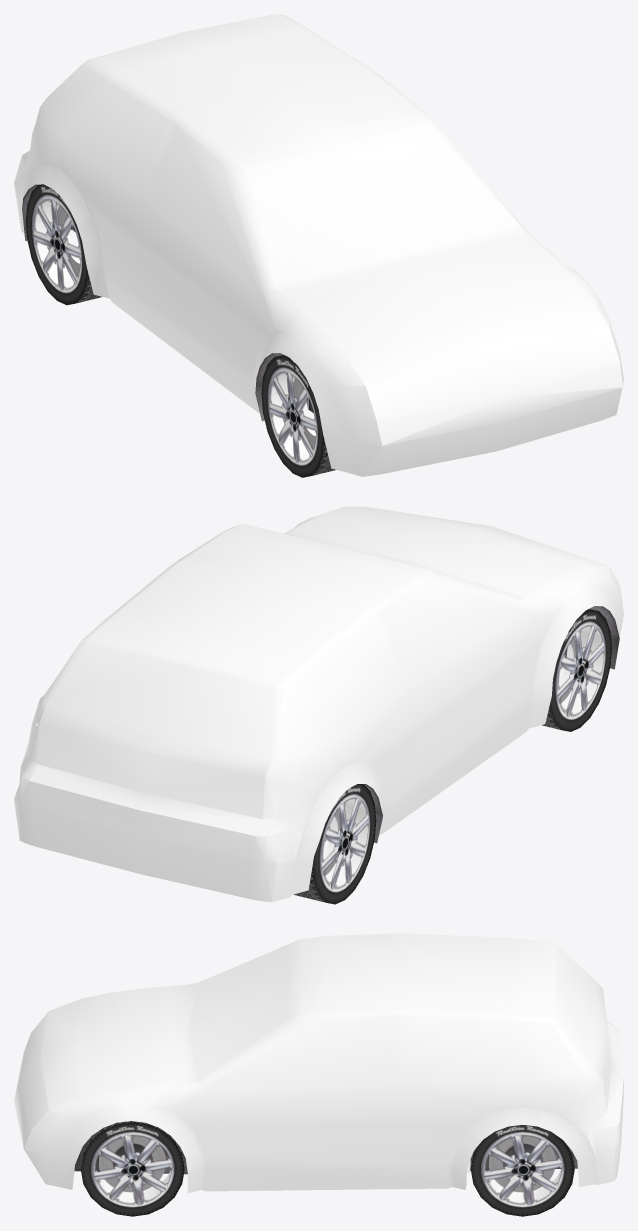
File: gti_1_2_32941495a78d.glb
The picture shows the model from 3 angles, top to bottom: view 1: azimuth 30°, elevation 25°; view 2: azimuth 150°, elevation 25°; view 3: azimuth 270°, elevation 25°; orthographic projection. The views are drawn at different scales.
Visible parts, largest first — view 1: BODY, WHEEL_0, WHEEL_2; view 2: BODY, WHEEL_2, WHEEL_0; view 3: BODY, WHEEL_1, WHEEL_3.
Boxes of the visible parts, left/top/right/bottom form: BODY: left=14, top=14, right=623, bottom=476; WHEEL_0: left=261, top=354, right=335, bottom=477; WHEEL_2: left=25, top=184, right=101, bottom=305; BODY: left=14, top=506, right=623, bottom=902; WHEEL_2: left=293, top=784, right=376, bottom=904; WHEEL_0: left=542, top=608, right=611, bottom=731; BODY: left=14, top=933, right=623, bottom=1192; WHEEL_1: left=80, top=1121, right=184, bottom=1216; WHEEL_3: left=470, top=1125, right=574, bottom=1216.
Size of the model in its own units: 1.74 by 1.28 by 3.74.
21 materials, 18 textured.
